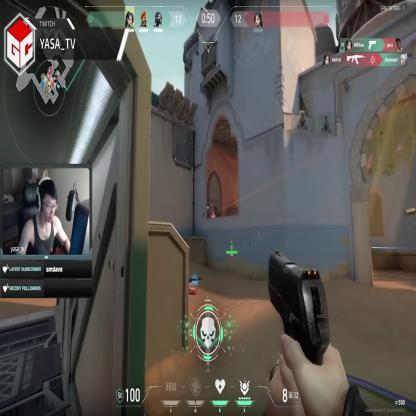enemy: (209, 205, 217, 239)
enemy_head: (211, 208, 214, 216)
